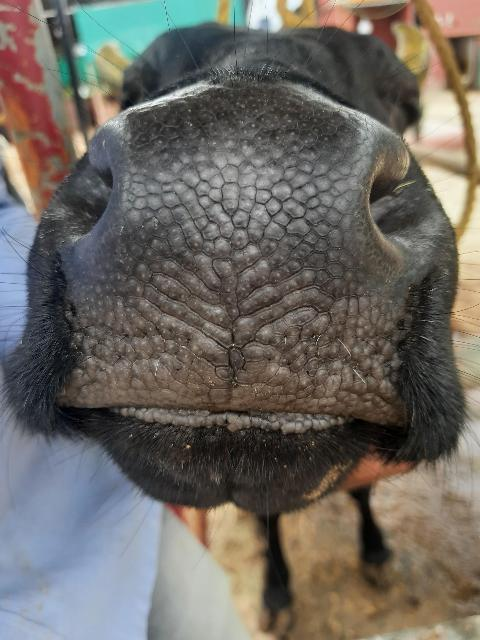Muzzle: (78, 109, 402, 411)
